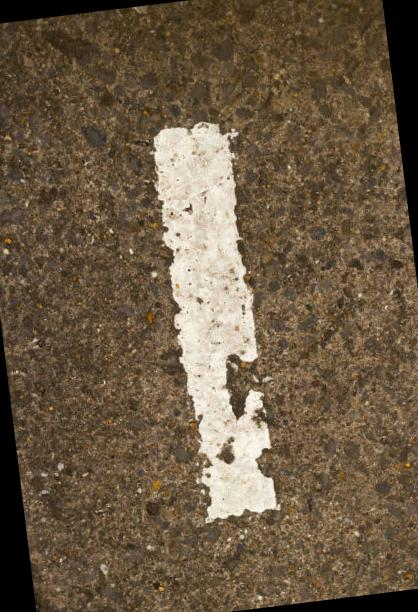faded_road_lines: (115, 100, 311, 558)
